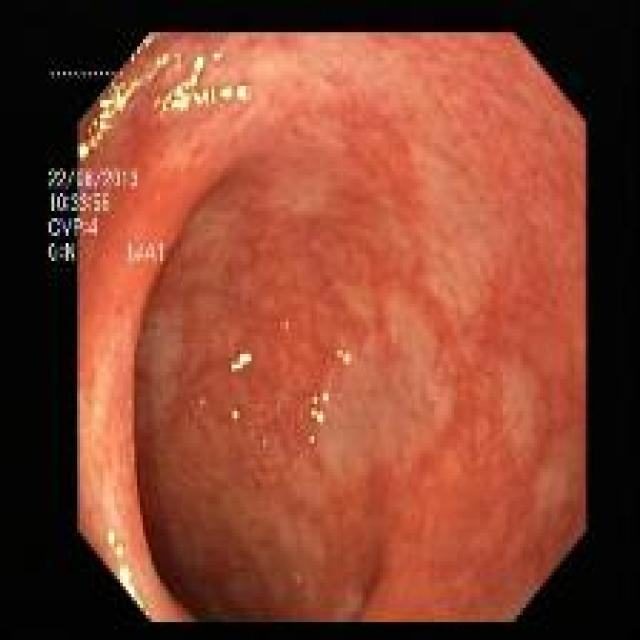ulcerative-colitis: (79, 33, 585, 621)
